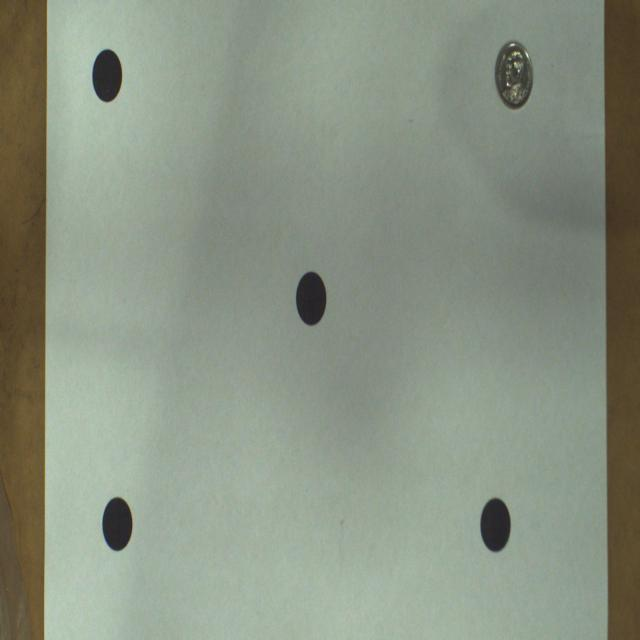head1bath: (495, 42, 532, 109)
space: (92, 49, 122, 102), (102, 498, 132, 551)
